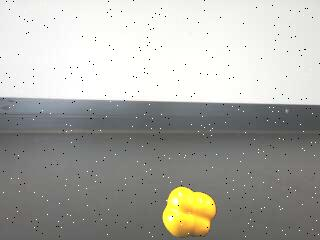Capsicum: (160, 185, 219, 239)
